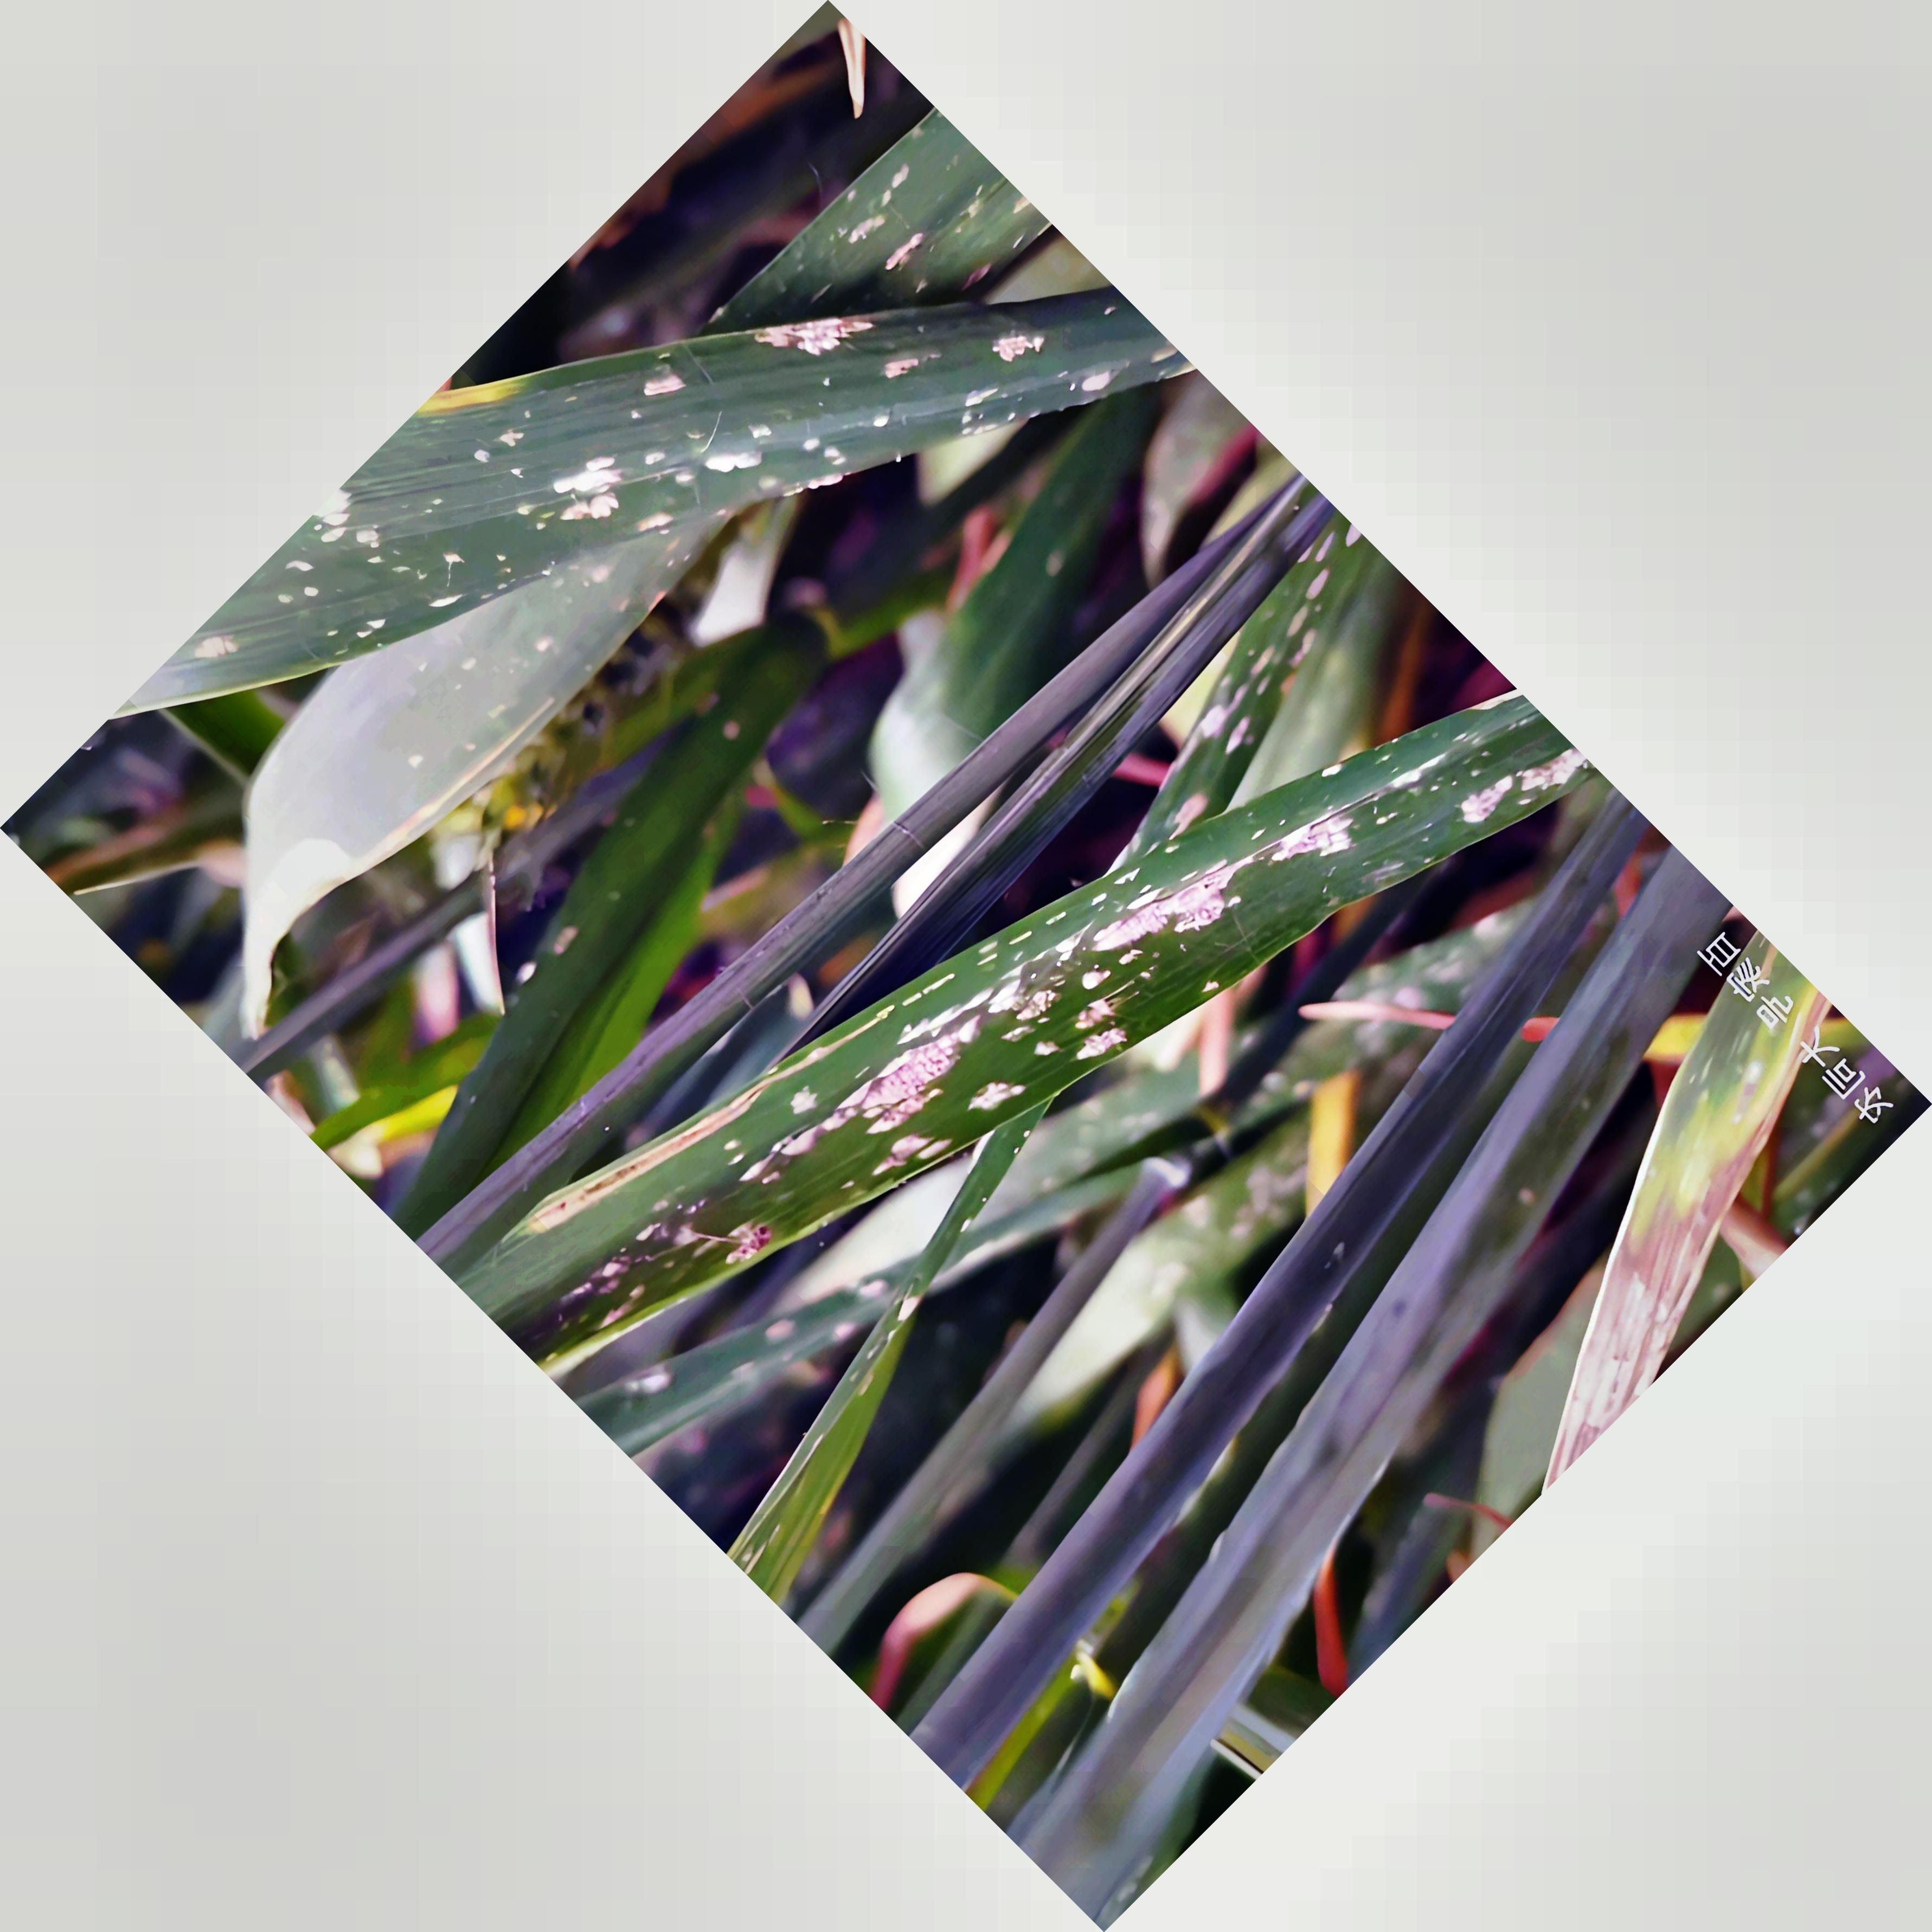Powdery Mildew: (621, 771, 1431, 1295), (320, 301, 1069, 642)
